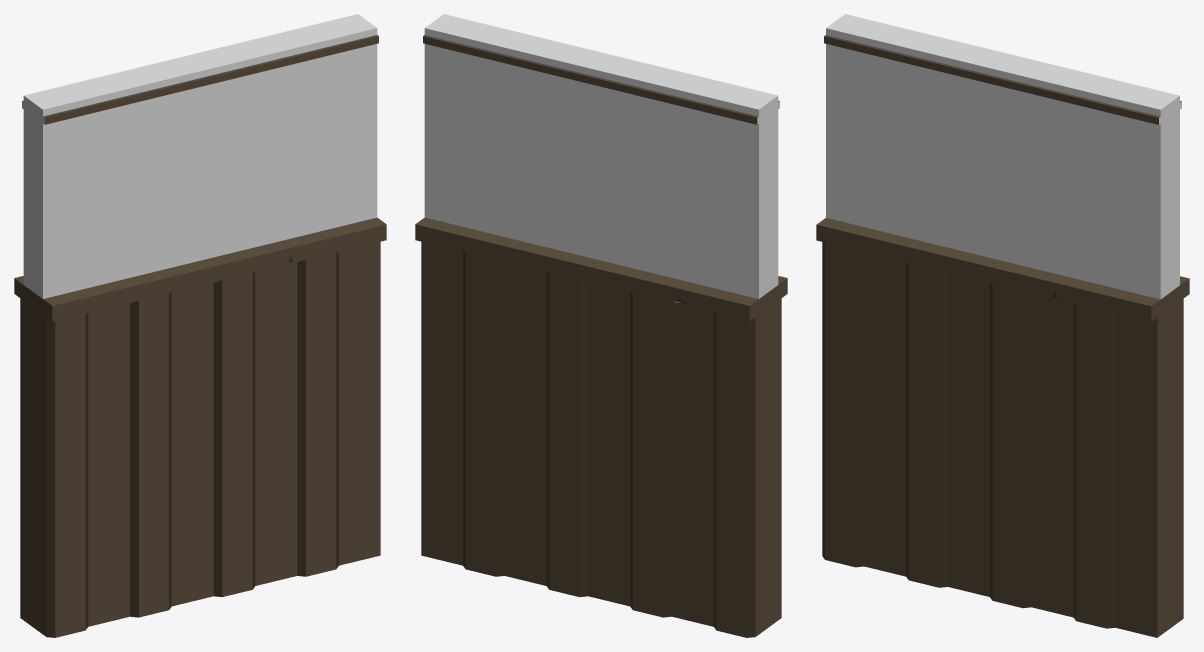
File: Wall_Standard_Alt_1.obj
The picture shows the model from 3 angles, left to right: view 1: azimuth 30°, elevation 25°; view 2: azimuth 150°, elevation 25°; view 3: azimuth 330°, elevation 25°; orthographic projection.
Visible parts, largest first — view 1: Wall_Standard_Alt_1; view 2: Wall_Standard_Alt_1; view 3: Wall_Standard_Alt_1.
Boxes of the visible parts, x1,y1,x2,y2 form: Wall_Standard_Alt_1: (14,14,386,637); Wall_Standard_Alt_1: (415,14,787,637); Wall_Standard_Alt_1: (816,14,1189,637).
Size of the model in its own units: 2 by 3 by 0.3948.
